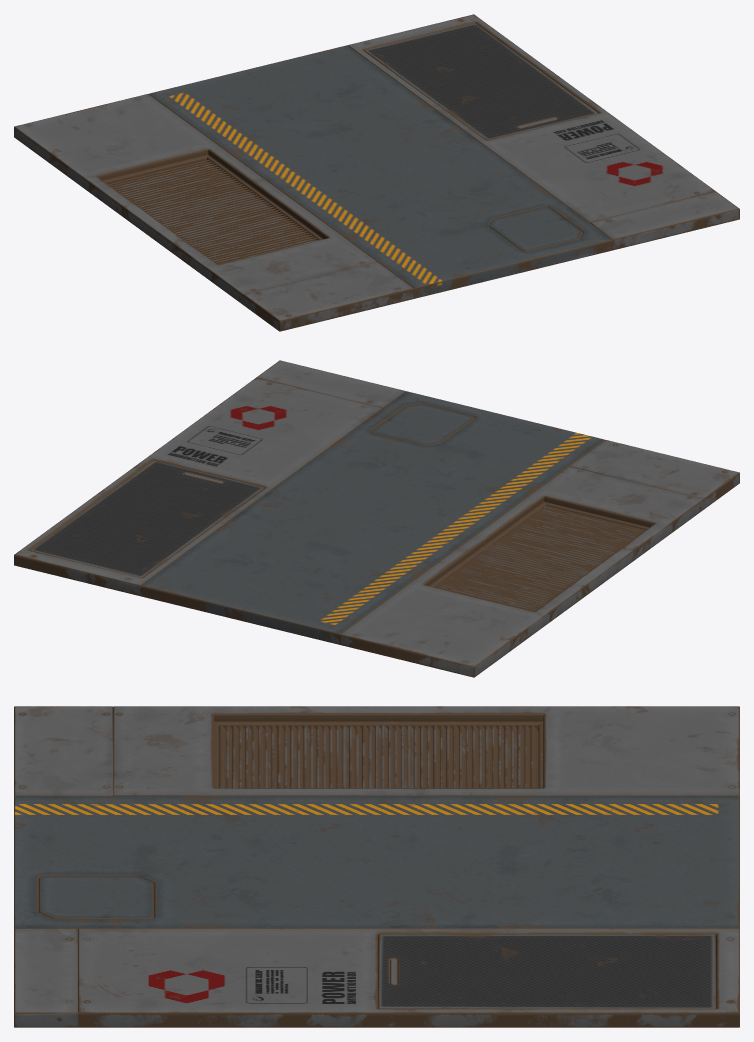
Rendered from SM_RoomStyle_Floor01.fbx.
3 renders of one model, top to bottom at view 1: azimuth 30°, elevation 25°; view 2: azimuth 150°, elevation 25°; view 3: azimuth 270°, elevation 25°, orthographic. The views are drawn at different scales.
Parts seen in each view (by area): view 1: SM_RoomStyle_Floor01_LOD0; view 2: SM_RoomStyle_Floor01_LOD0; view 3: SM_RoomStyle_Floor01_LOD0.
Part boxes in pixels (<box>): SM_RoomStyle_Floor01_LOD0: <box>14,14,739,331</box>; SM_RoomStyle_Floor01_LOD0: <box>14,360,739,677</box>; SM_RoomStyle_Floor01_LOD0: <box>14,706,739,1027</box>.
Bounding box in the file's own units: 260 × 260 × 5.81.
2 materials, 1 textured.
